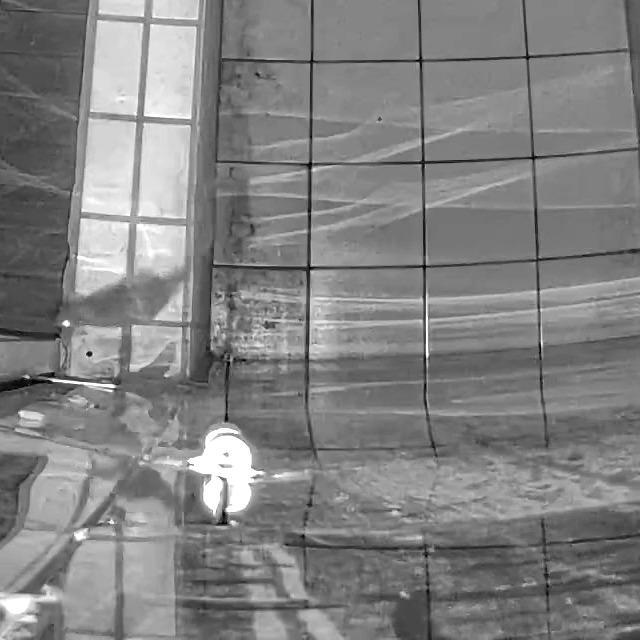rat: (52, 181, 221, 331)
